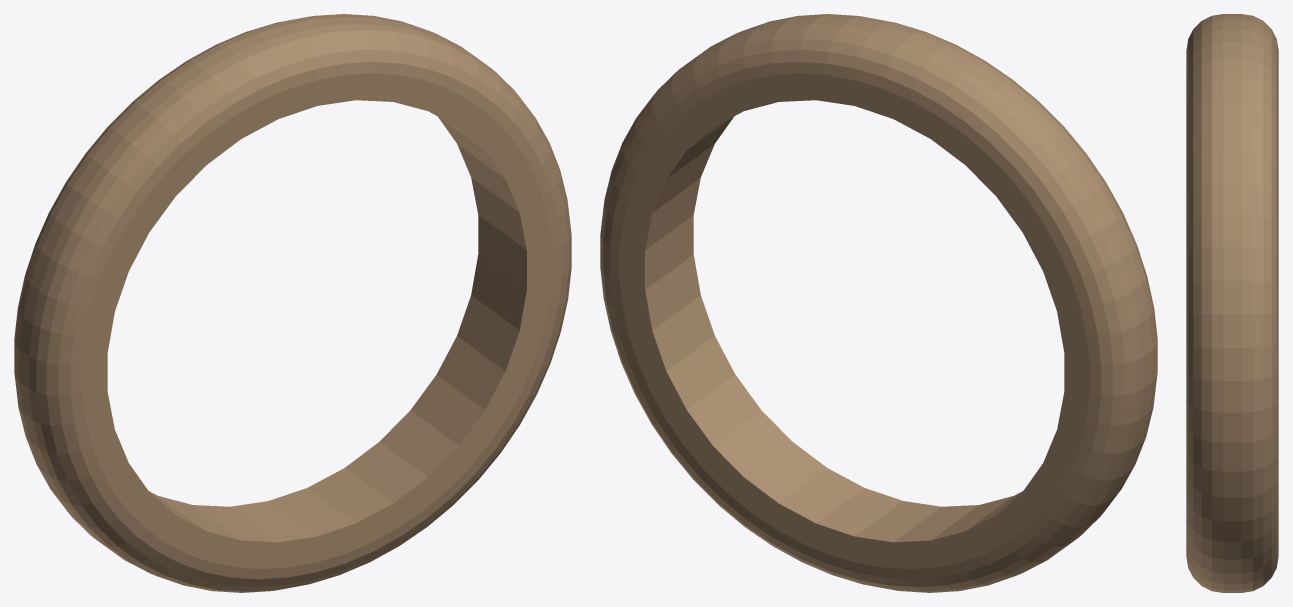
The model's file is wheel.dae.
The picture shows the model from 3 angles, left to right: view 1: azimuth 30°, elevation 25°; view 2: azimuth 150°, elevation 25°; view 3: azimuth 270°, elevation 25°; orthographic projection. The views are drawn at different scales.
Parts seen in each view (by area): view 1: Raw_Wheel; view 2: Raw_Wheel; view 3: Raw_Wheel.
Part boxes in pixels (x1=…): Raw_Wheel: x1=14, y1=14, x2=571, y2=592; Raw_Wheel: x1=600, y1=14, x2=1157, y2=592; Raw_Wheel: x1=1186, y1=14, x2=1278, y2=592.
Size of the model in its own units: 0.1597 by 0.025 by 0.1564.
